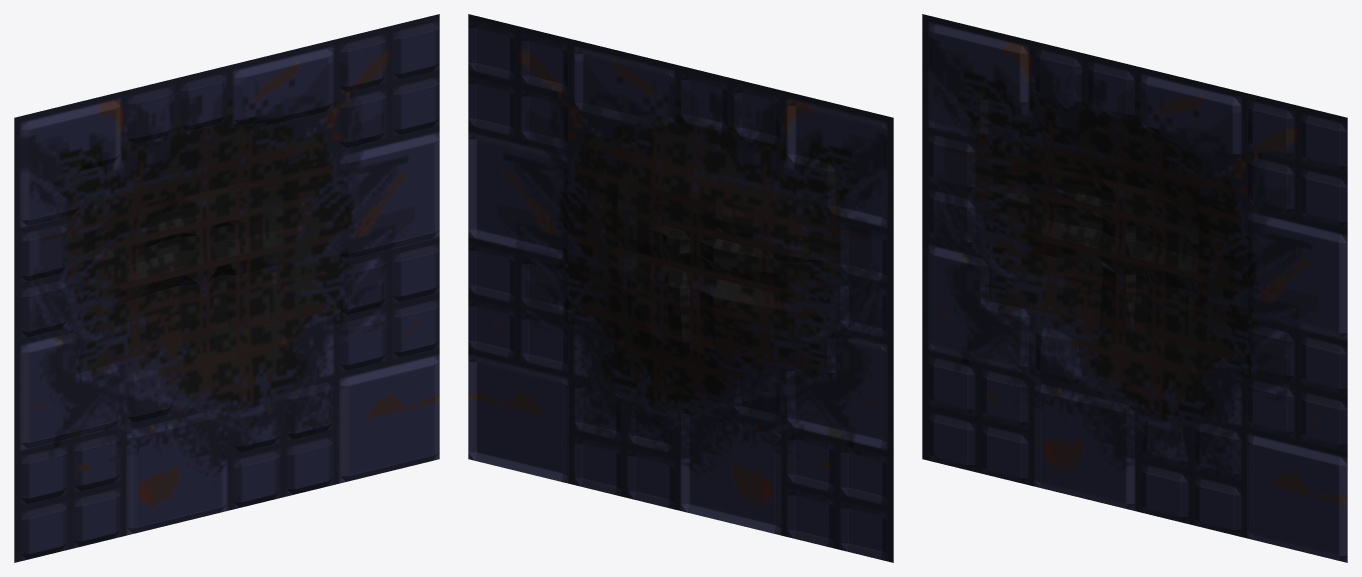
The model's file is med1_7d.fbx.
3 renders of one model, left to right at view 1: azimuth 30°, elevation 25°; view 2: azimuth 150°, elevation 25°; view 3: azimuth 330°, elevation 25°, orthographic.
Parts seen in each view (by area): view 1: med1_7d_mesh; view 2: med1_7d_mesh; view 3: med1_7d_mesh.
Part boxes in pixels (x1,y1,x2,y2): med1_7d_mesh: (14,14,439,562); med1_7d_mesh: (468,14,893,562); med1_7d_mesh: (922,14,1347,562).
Bounding box in the file's own units: 256 × 256 × 10.
